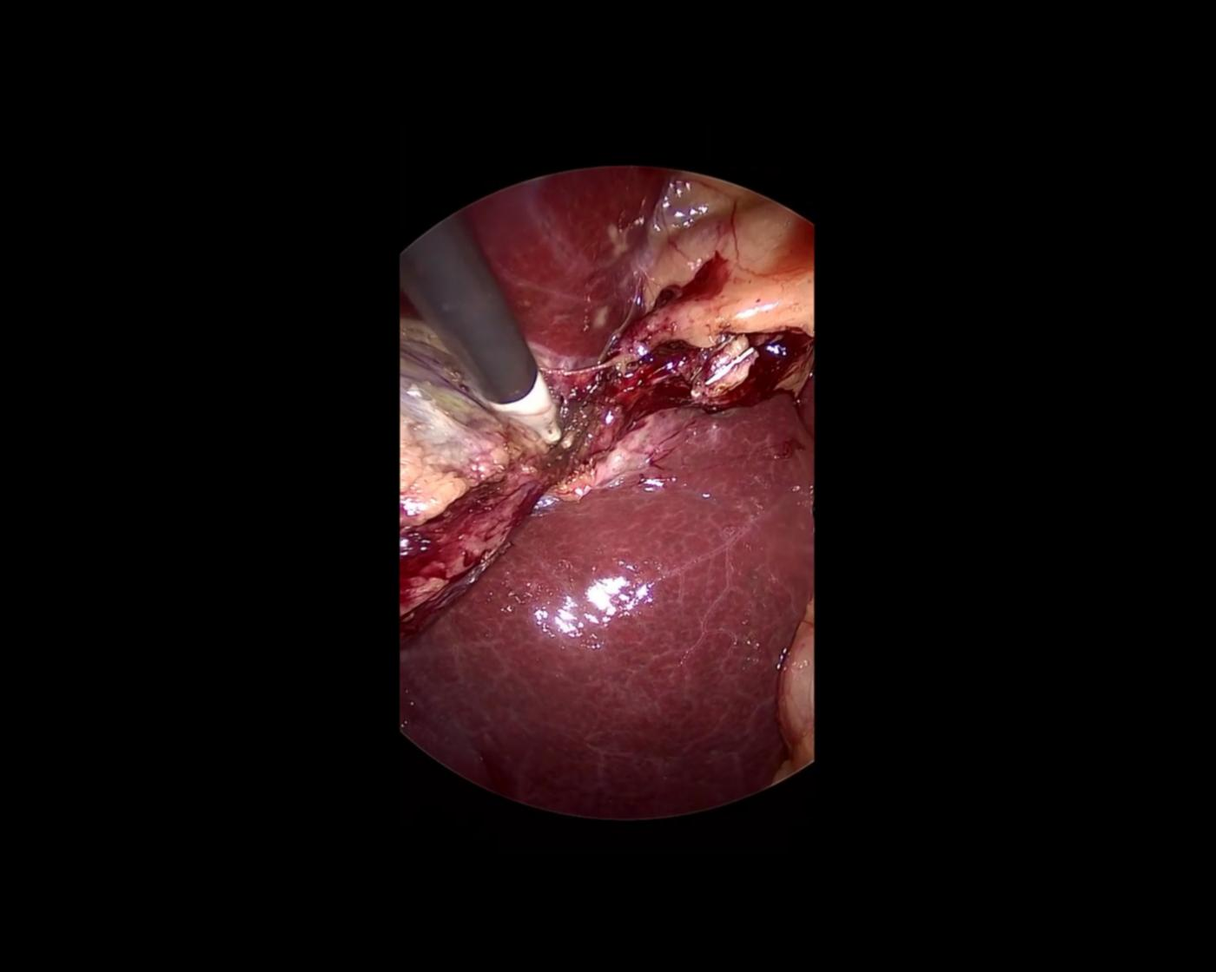Cautery: (383, 212, 572, 475)
Gallbladder: (399, 317, 543, 639)
Liver: (399, 389, 814, 819), (456, 160, 691, 379)
